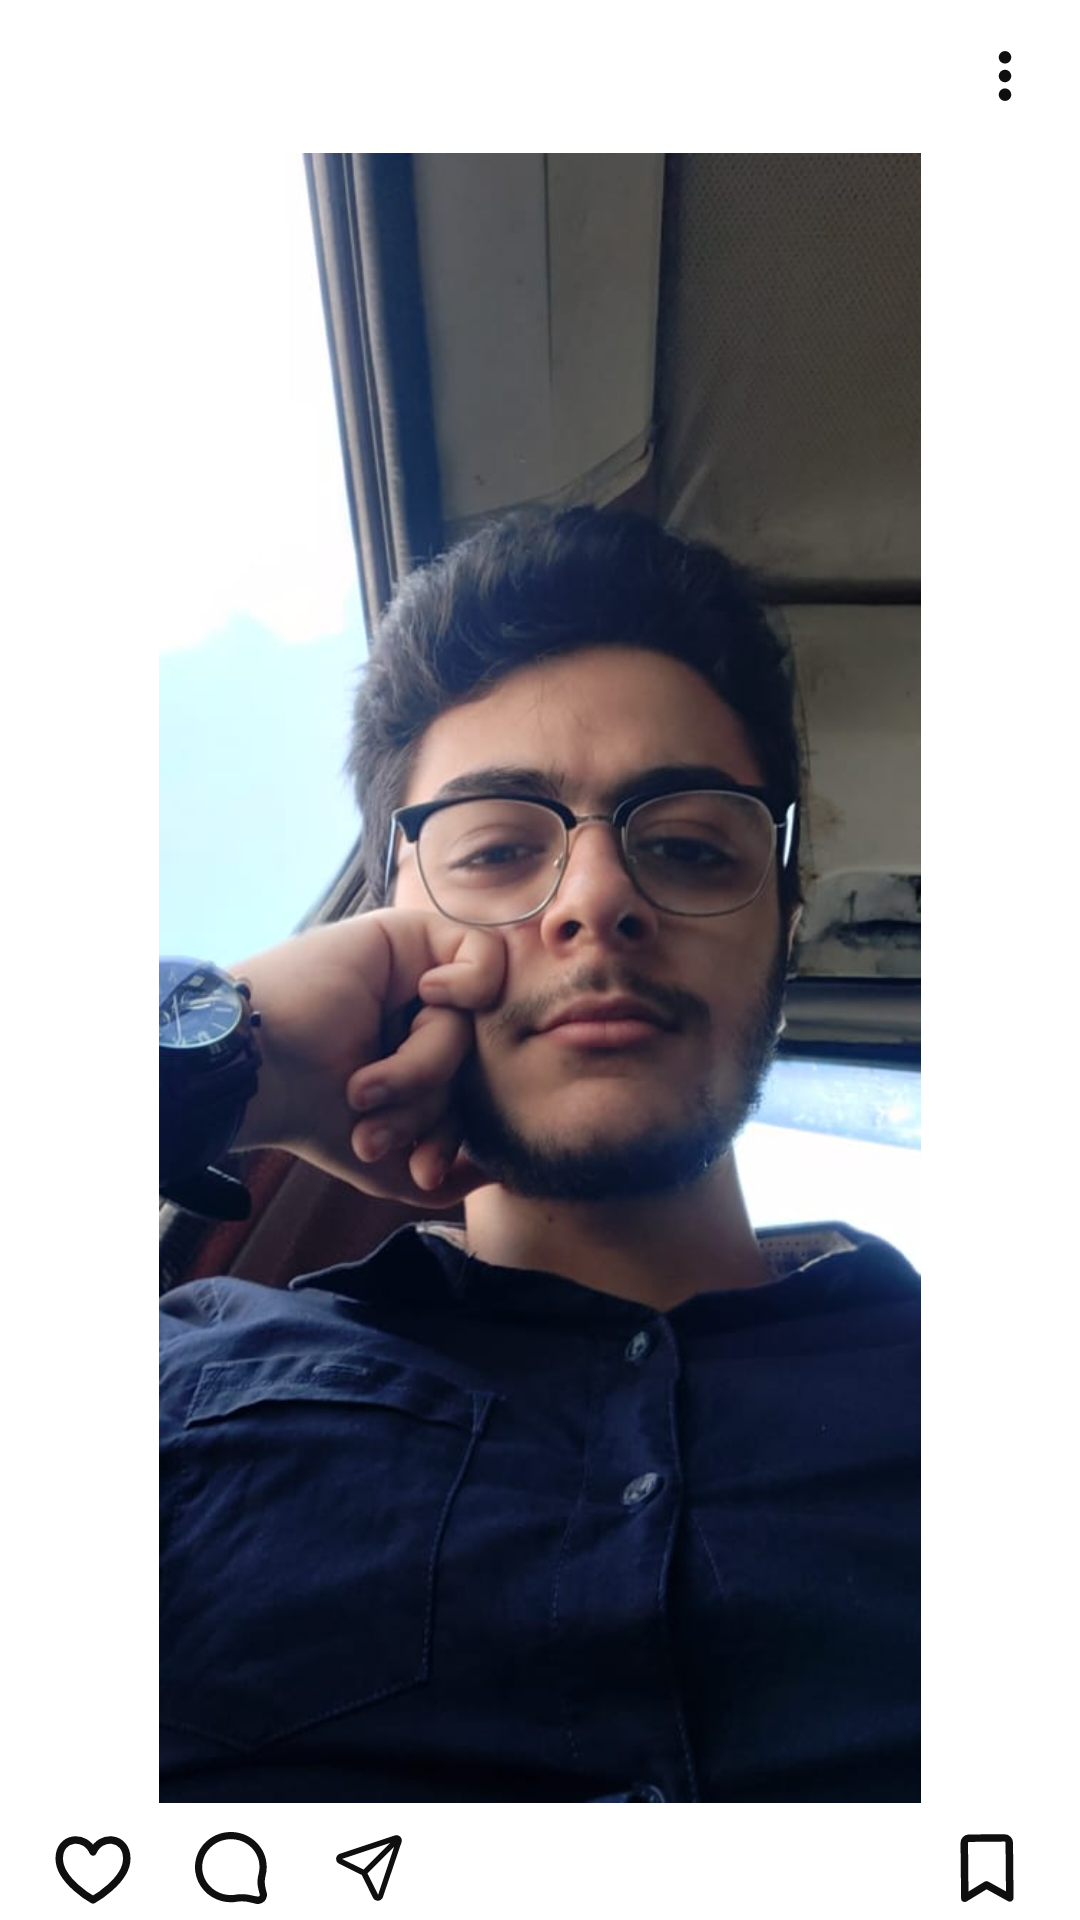

Named icons in this screenshot (1080 × 1920) and their centers, point (x, y):
comments: point (231, 1868)
heart: point (93, 1870)
save: point (987, 1868)
share: point (369, 1868)
three dots: point (1005, 76)
